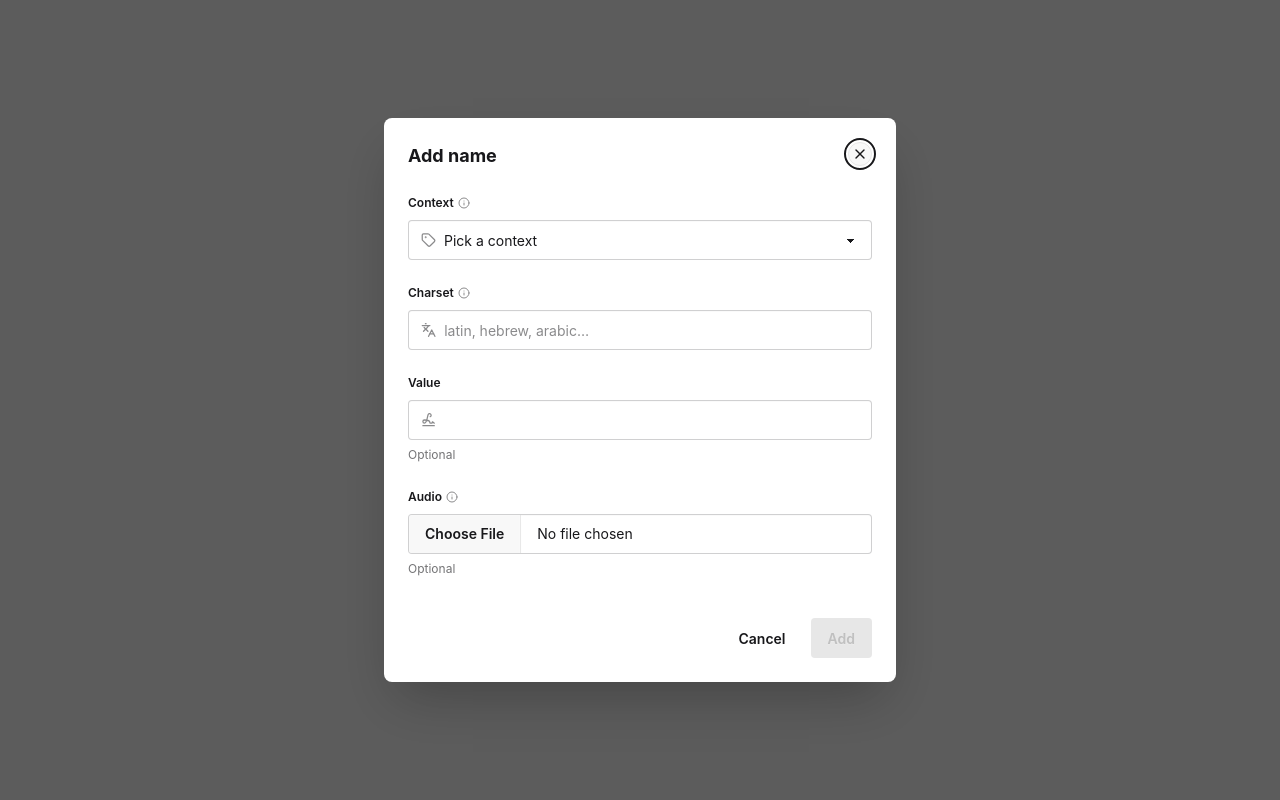
Scenario: NameFormModal › keeps submit disabled until the form is valid
Expected: the button "Add" is disabled, [810,618,872,658]
Select "legal" in the dropdown at (652, 240), box [432,222,871,258]
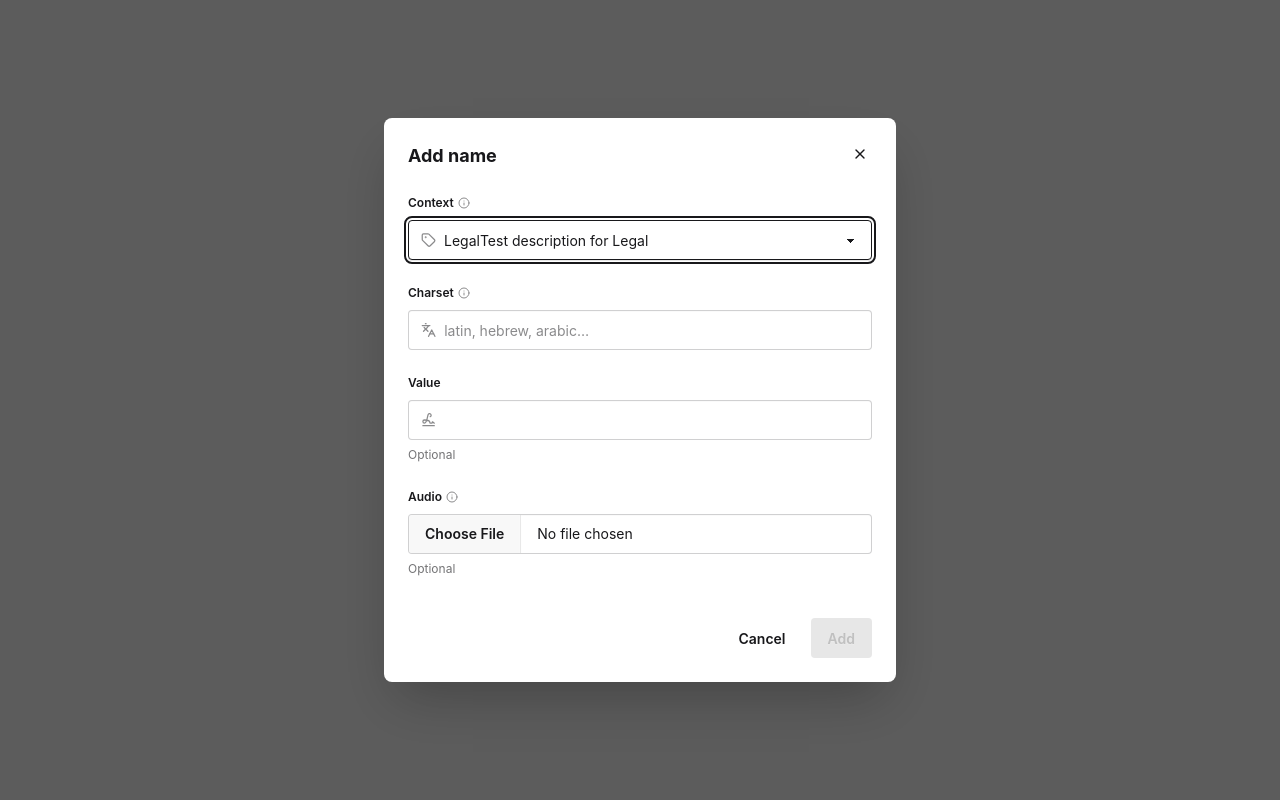
Type "latin" into the field with placeholder "latin, hebrew, arabic…" at (652, 330), box [444,311,859,349]
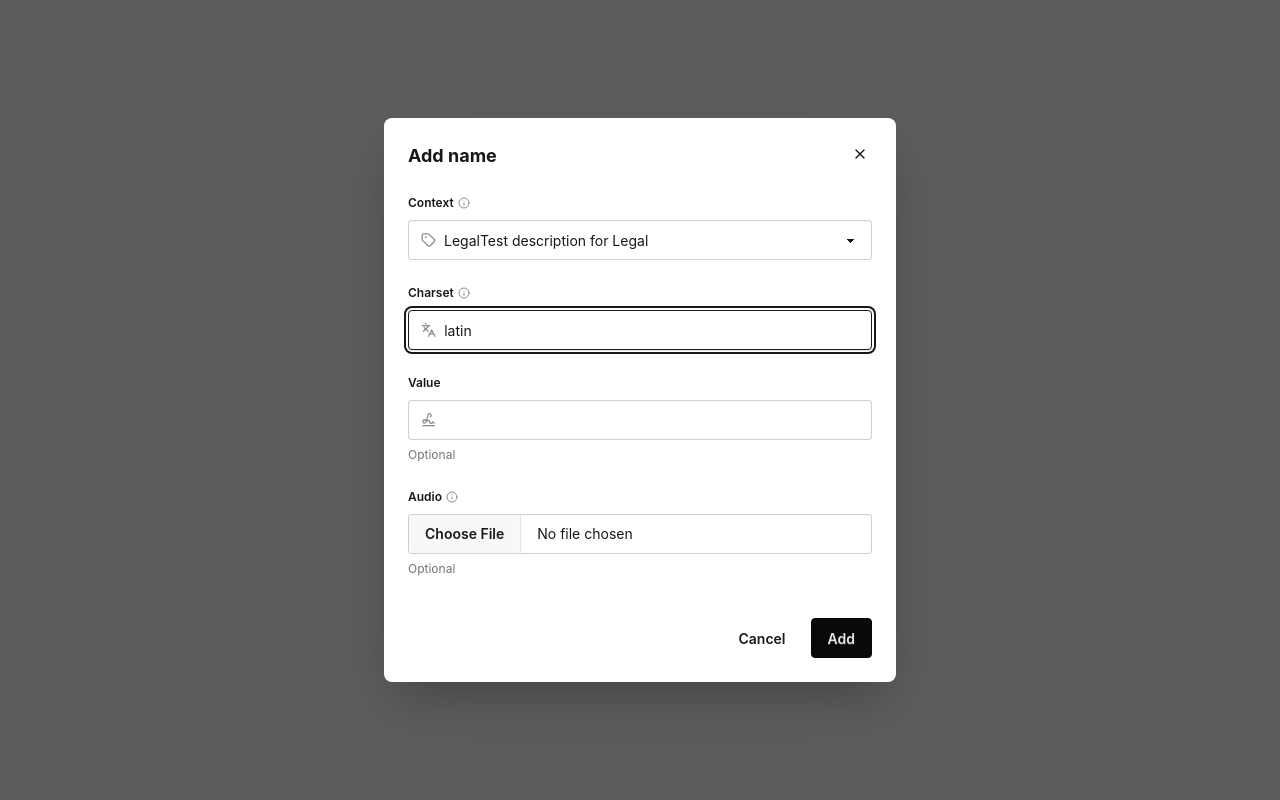
Expected: the button "Add" is enabled, [810,618,872,658]
